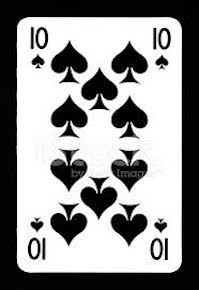TenOfSpades: (10, 13, 186, 274)
